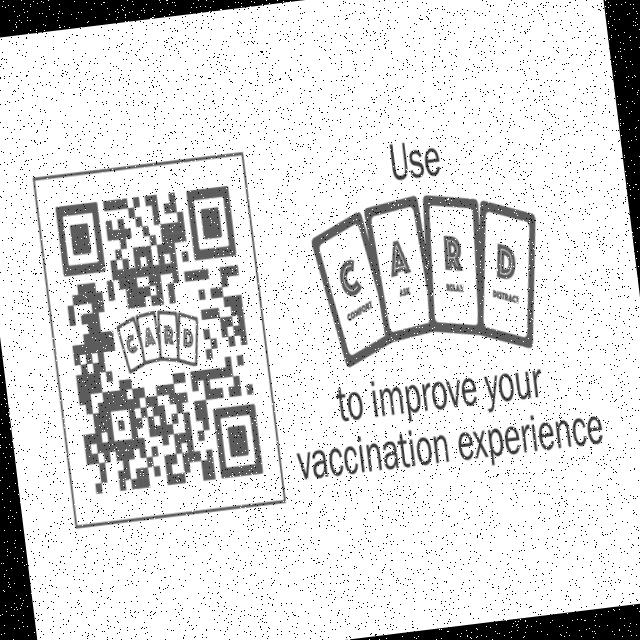QR-codes: (52, 179, 266, 495)
